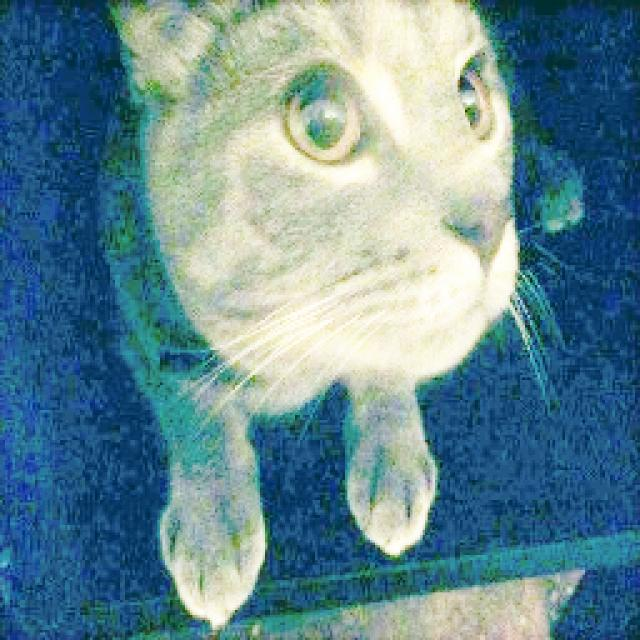cat: (58, 0, 550, 619)
